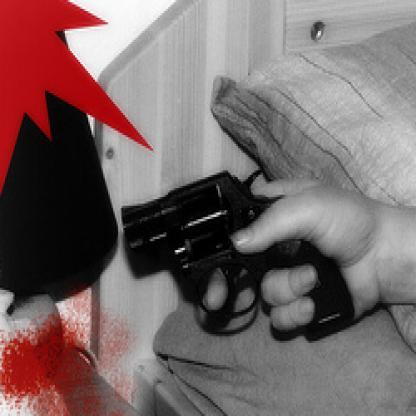gun: (113, 153, 363, 347)
